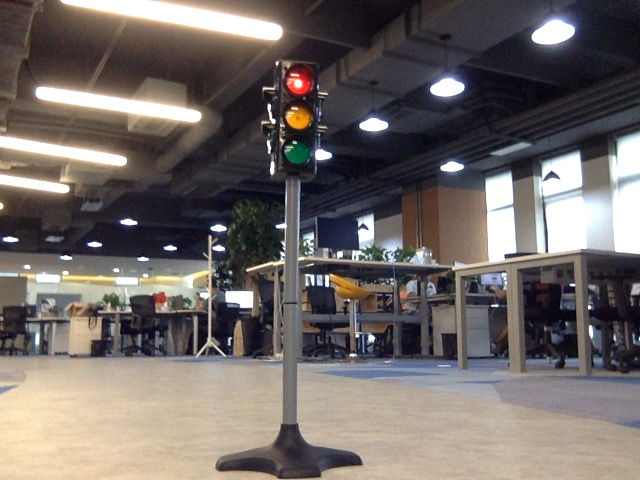red: (277, 63, 317, 167)
